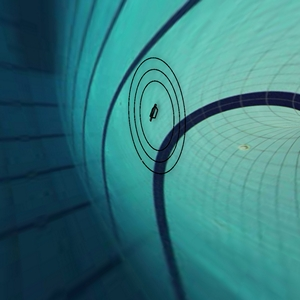circle: (105, 47, 220, 197)
